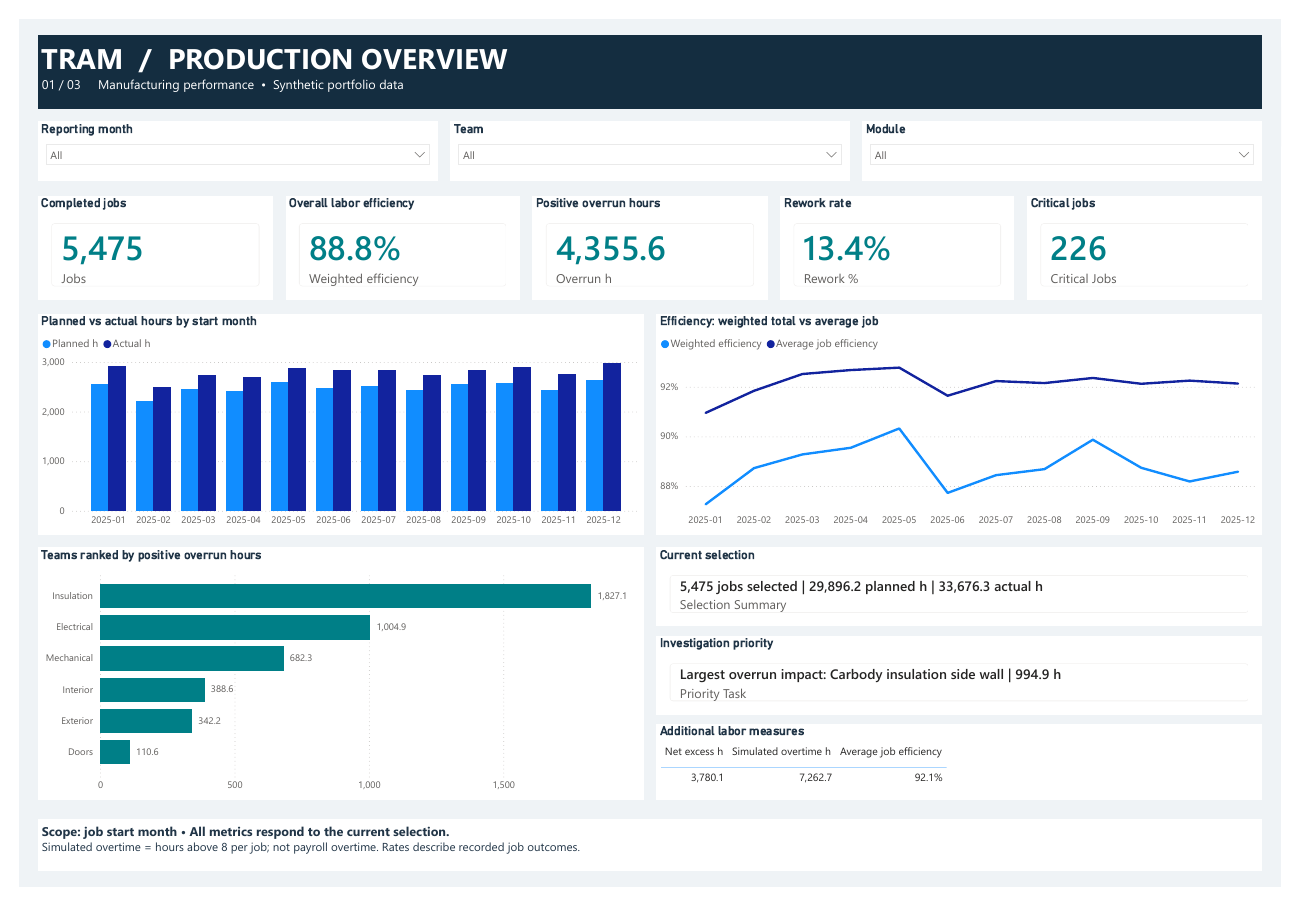

This screenshot's page, from the dashboard's own definition file:
{"tool":"powerbi","page":{"name":"Production Overview","canvas":[1600,1100],"ordinal":0},"visuals":[{"type":"textbox","box":[24,20,1552,94],"z":1},{"type":"slicer","title":"Reporting month","fields":{"Values":["vw_tram_kpi.Reporting Month"]},"box":[24,130,506.7,76],"z":2},{"type":"slicer","title":"Team","fields":{"Values":["vw_tram_kpi.team"]},"box":[546.7,130,506.7,76],"z":3},{"type":"slicer","title":"Module","fields":{"Values":["vw_tram_kpi.module"]},"box":[1069.3,130,506.7,76],"z":4},{"type":"textbox","box":[24,1014,1552,66],"z":5},{"type":"cardVisual","title":"Completed jobs","fields":{"Data":["vw_tram_kpi.Total Jobs"]},"box":[24,224,297.6,132],"z":6},{"type":"cardVisual","title":"Overall labor efficiency","fields":{"Data":["vw_tram_kpi.Overall Efficiency"]},"box":[337.6,224,297.6,132],"z":7},{"type":"cardVisual","title":"Positive overrun hours","fields":{"Data":["vw_tram_kpi.Positive Overrun Hours"]},"box":[651.2,224,297.6,132],"z":8},{"type":"cardVisual","title":"Rework rate","fields":{"Data":["vw_tram_kpi.Rework Rate"]},"box":[964.8,224,297.6,132],"z":9},{"type":"cardVisual","title":"Critical jobs","fields":{"Data":["vw_tram_kpi.Critical Jobs"]},"box":[1278.4,224,297.6,132],"z":10},{"type":"clusteredColumnChart","title":"Planned vs actual hours by start month","fields":{"Category":["vw_tram_kpi.Reporting Month"],"Y":["vw_tram_kpi.Planned Hours","vw_tram_kpi.Actual Hours"]},"box":[24,374,768,280],"z":11},{"type":"lineChart","title":"Efficiency: weighted total vs average job","fields":{"Category":["vw_tram_kpi.Reporting Month"],"Y":["vw_tram_kpi.Overall Efficiency","vw_tram_kpi.Average Efficiency %"]},"box":[808,374,768,280],"z":12},{"type":"clusteredBarChart","title":"Teams ranked by positive overrun hours","fields":{"Category":["vw_tram_kpi.team"],"Y":["vw_tram_kpi.Positive Overrun Hours"]},"box":[24,670,768,320],"z":13},{"type":"cardVisual","title":"Current selection","fields":{"Data":["vw_tram_kpi.Selection Summary"]},"box":[808,670,768,100],"z":14},{"type":"tableEx","title":"Additional labor measures","fields":{"Values":["vw_tram_kpi.Total Excess Hours","vw_tram_kpi.Total Overtime Hours","vw_tram_kpi.Average Efficiency %"]},"box":[808,894,768,96],"z":15},{"type":"cardVisual","title":"Investigation priority","fields":{"Data":["vw_tram_kpi.Priority Task"]},"box":[808,782,768,100],"z":100}]}

Visuals, with their boxes in screenshot pixels (x1, y1, x2, y2), scaled from the page's 1600x1100 canvas onto the 1300x906 screenshot:
textbox: (20, 16, 1280, 94)
"Reporting month" slicer: (20, 107, 431, 170)
"Team" slicer: (444, 107, 856, 170)
"Module" slicer: (869, 107, 1280, 170)
textbox: (20, 835, 1280, 890)
"Completed jobs" cardVisual: (20, 184, 261, 293)
"Overall labor efficiency" cardVisual: (274, 184, 516, 293)
"Positive overrun hours" cardVisual: (529, 184, 771, 293)
"Rework rate" cardVisual: (784, 184, 1026, 293)
"Critical jobs" cardVisual: (1039, 184, 1280, 293)
"Planned vs actual hours by start month" clusteredColumnChart: (20, 308, 644, 539)
"Efficiency: weighted total vs average job" lineChart: (656, 308, 1280, 539)
"Teams ranked by positive overrun hours" clusteredBarChart: (20, 552, 644, 815)
"Current selection" cardVisual: (656, 552, 1280, 634)
"Additional labor measures" tableEx: (656, 736, 1280, 815)
"Investigation priority" cardVisual: (656, 644, 1280, 726)
